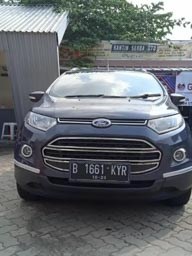plat: (69, 160, 130, 175)
